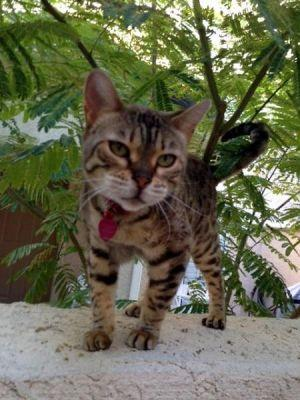bengal: (72, 64, 226, 225)
